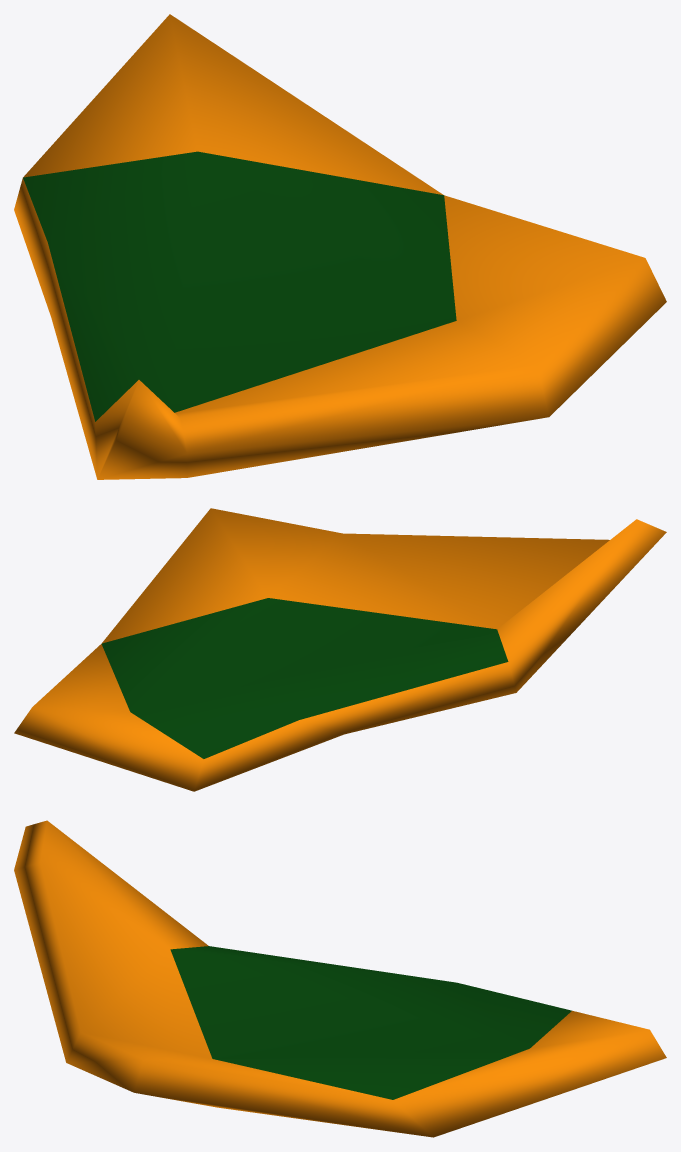
3 views of the same model, one above another, from view 1: azimuth 30°, elevation 25°; view 2: azimuth 150°, elevation 25°; view 3: azimuth 270°, elevation 25° (orthographic). The views are drawn at different scales.
Parts seen in each view (by area): view 1: Pumpkin_01.001_cell.008; view 2: Pumpkin_01.001_cell.008; view 3: Pumpkin_01.001_cell.008.
Boxes of the visible parts, bbox=[...] form: Pumpkin_01.001_cell.008: bbox=[14, 14, 666, 479]; Pumpkin_01.001_cell.008: bbox=[14, 508, 666, 791]; Pumpkin_01.001_cell.008: bbox=[14, 820, 666, 1137].
Size of the model in its own units: 0.9622 by 0.2955 by 1.29.
Materials: 2 (2 with a texture image).
